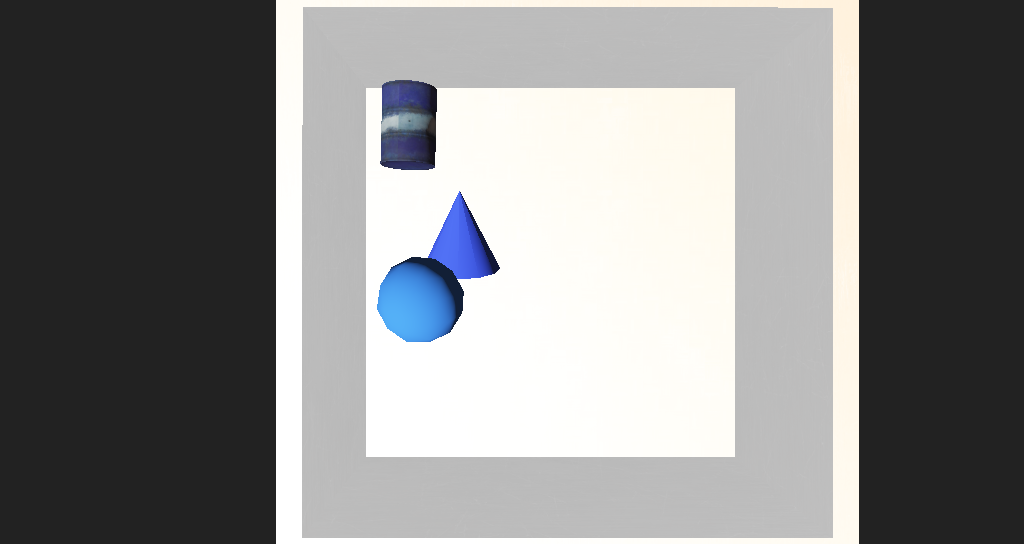cone: (364, 160, 418, 212)
cylinder: (397, 215, 465, 272)
sphere: (364, 258, 431, 305)
